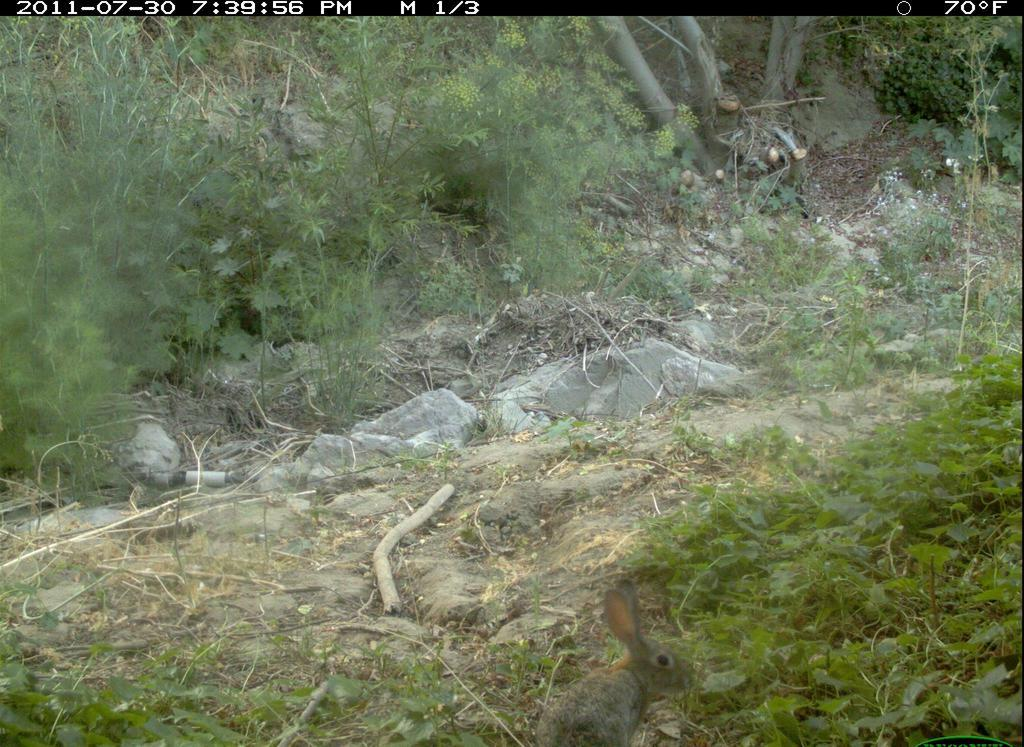rabbit: (525, 580, 717, 747)
